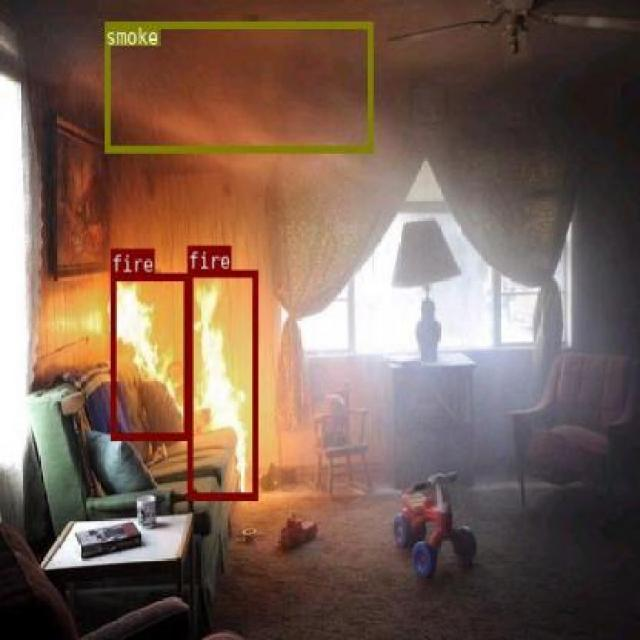CIV_Plane: (186, 268, 257, 498), (110, 272, 188, 438)
Fire: (186, 268, 257, 498), (110, 272, 188, 438)
Smoke: (104, 52, 372, 120)
